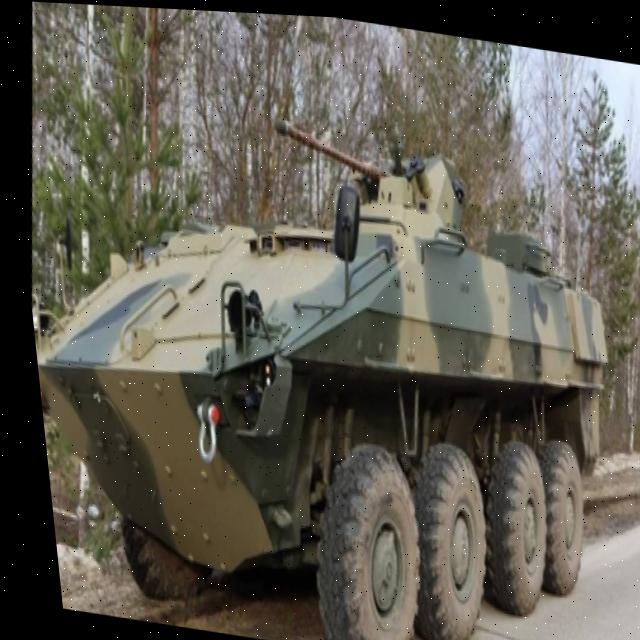MIL_APC: (9, 107, 640, 640)
